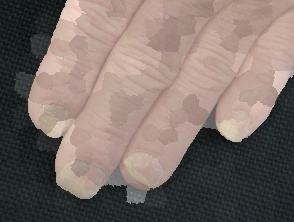Nail_psoriasis: (46, 145, 116, 208), (24, 85, 86, 149), (112, 139, 179, 197), (212, 93, 265, 147)
